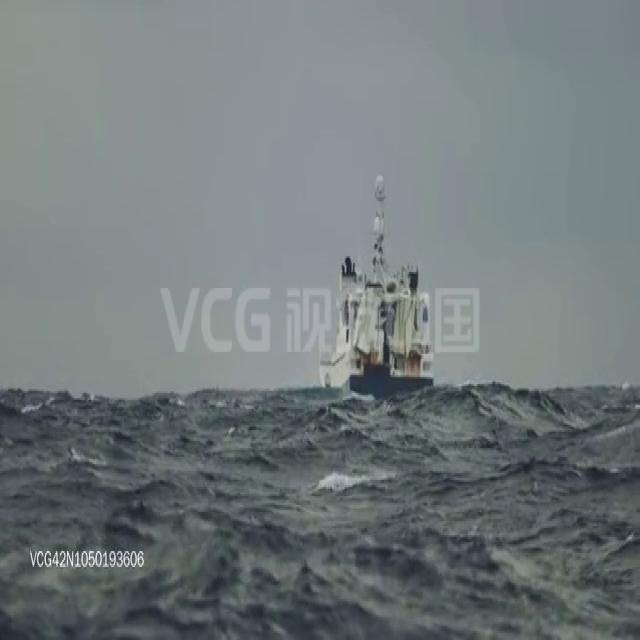houseboat: (321, 193, 437, 393)
